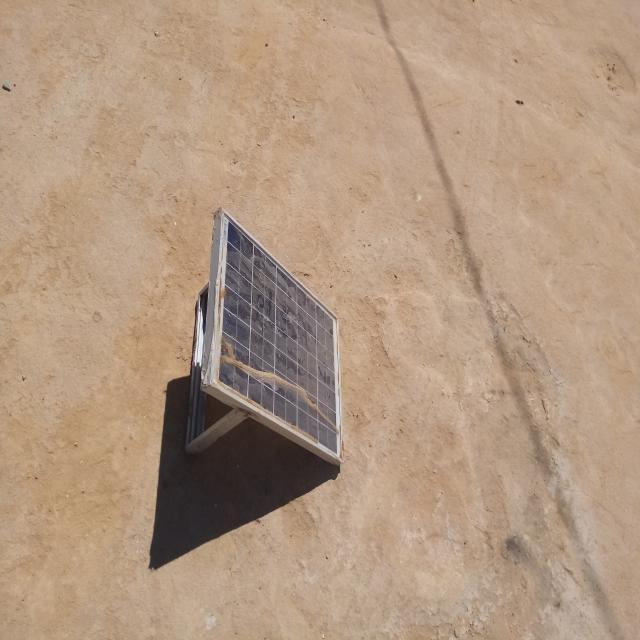faulty: (213, 210, 343, 460)
